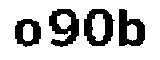0: (83, 7, 115, 50)
9: (46, 7, 82, 50)
b: (115, 5, 148, 51)
o: (13, 17, 46, 50)
